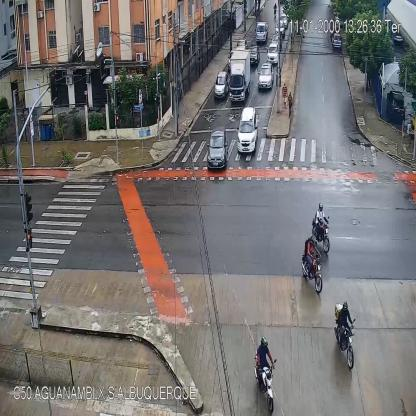car: (207, 127, 228, 171), (237, 108, 257, 154), (258, 64, 274, 90), (214, 72, 228, 96), (268, 43, 277, 63), (332, 34, 342, 49), (276, 23, 286, 38), (236, 37, 246, 50), (280, 13, 288, 24)
motorbike: (253, 336, 277, 412), (335, 302, 355, 370), (302, 236, 322, 292), (312, 203, 330, 256), (274, 4, 276, 18)
person: (287, 92, 293, 117), (282, 82, 287, 109)
truck: (229, 47, 250, 101), (256, 22, 268, 44)
